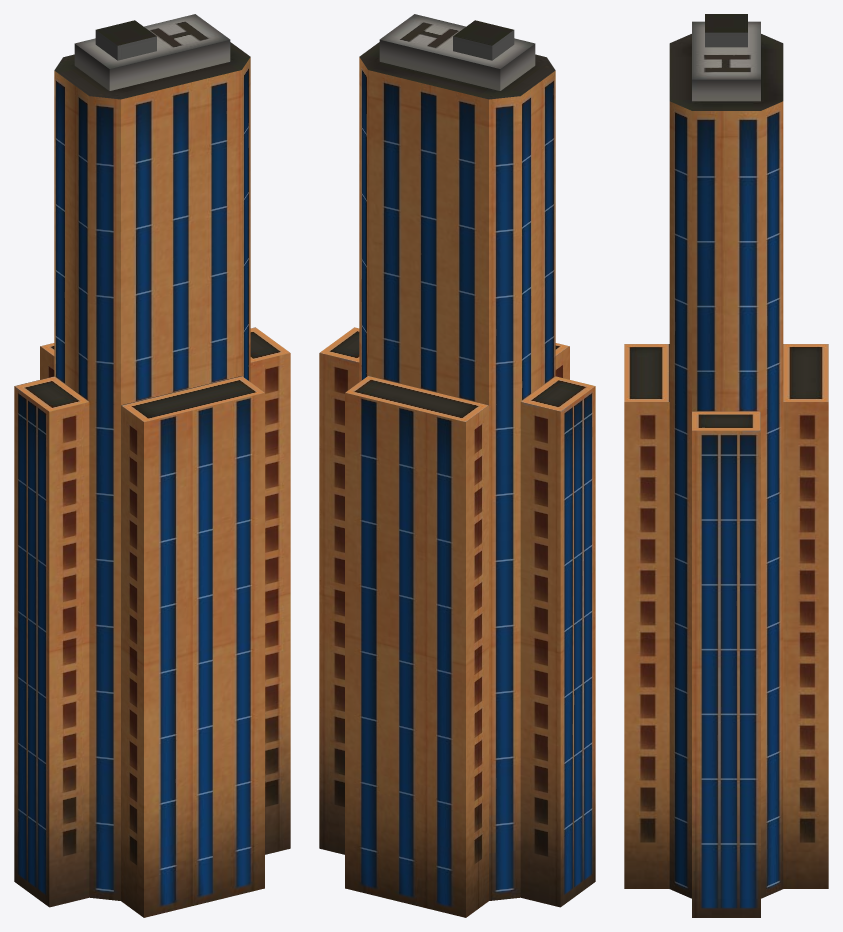
File: House_12.FBX
3 views of the same model, side by side, from view 1: azimuth 30°, elevation 25°; view 2: azimuth 150°, elevation 25°; view 3: azimuth 270°, elevation 25° (orthographic).
Visible parts, largest first — view 1: House_12; view 2: House_12; view 3: House_12.
Boxes of the visible parts, x1,y1,x2,y2 form: House_12: [14, 14, 290, 917]; House_12: [319, 14, 595, 917]; House_12: [624, 14, 828, 917].
Bounding box in the file's own units: 35.41 × 118 × 26.41.
Materials: 1 (1 with a texture image).
